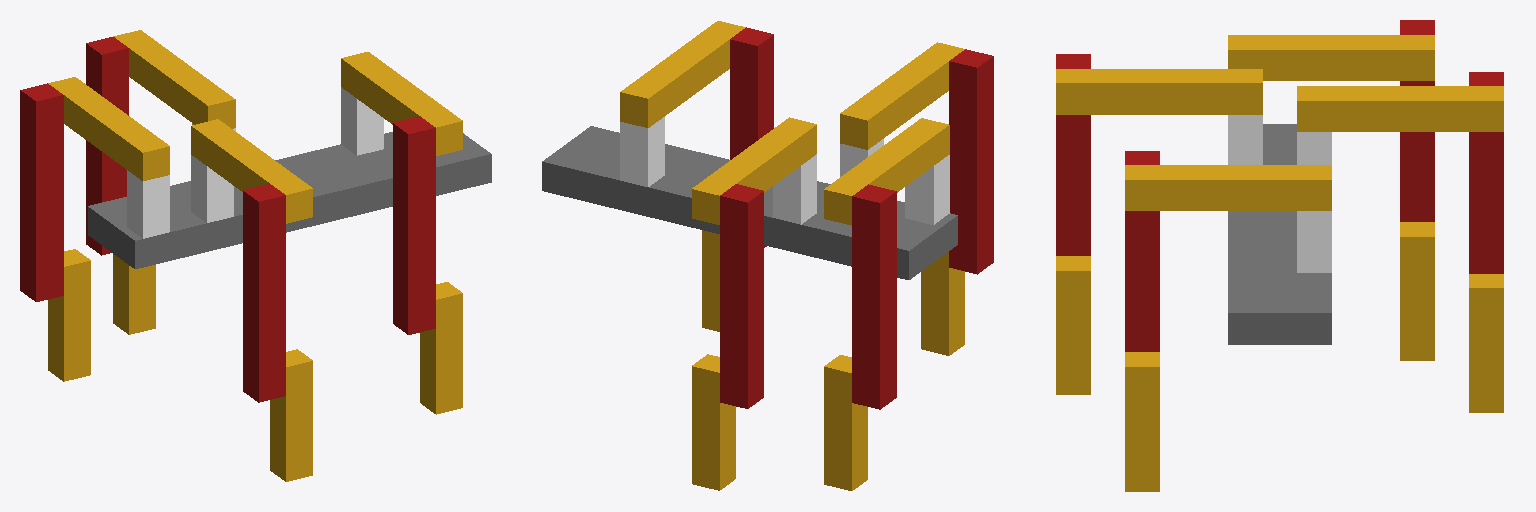
robot.urdf — v0:
<?xml version="1.0" encoding="utf-8"?>
<!-- =================================================================================== -->
<!-- |    This document was autogenerated by xacro from ../robots/v0variants/xacros/v0_4l_26.xacro | -->
<!-- |    EDITING THIS FILE BY HAND IS NOT RECOMMENDED                                 | -->
<!-- =================================================================================== -->
<robot name="v0">
  <material name="grey">
    <color rgba="0.5 0.5 0.5 1"/>
  </material>
  <material name="white">
    <color rgba="1 1 1 1"/>
  </material>
  <material name="yellow">
    <color rgba="0.91 0.7 0.14 1"/>
  </material>
  <material name="red">
    <color rgba="0.71 0.14 0.14 1"/>
  </material>
  <link name="body">
    <visual>
      <geometry>
        <box size="1.3 0.3 0.1"/>
      </geometry>
      <material name="grey"/>
      <origin rpy="0 0 0" xyz="0 0 0.7"/>
    </visual>
    <collision>
      <geometry>
        <box size="1.3 0.3 0.1"/>
      </geometry>
      <origin rpy="0 0 0" xyz="0 0 0.7"/>
    </collision>
    <inertial>
      <mass value="99.84"/>
      <inertia ixx="0.832" ixy="0.0" ixz="0.0" iyy="14.144" iyz="0.0" izz="14.8096"/>
    </inertial>
  </link>
  <link name="l1_segment_1">
    <visual>
      <geometry>
        <box size="0.1 0.1 0.2"/>
      </geometry>
      <material name="white"/>
      <origin rpy="0 0 0" xyz="0 0 0.1"/>
    </visual>
    <collision>
      <geometry>
        <box size="0.1 0.1 0.2"/>
      </geometry>
      <origin rpy="0 0 0" xyz="0 0 0.1"/>
    </collision>
    <inertial>
      <mass value="5.12"/>
      <inertia ixx="0.0213333333333" ixy="0.0" ixz="0.0" iyy="0.0213333333333" iyz="0.0" izz="0.00853333333333"/>
    </inertial>
  </link>
  <joint name="l1_base_to_joint_1" type="fixed">
    <parent link="body"/>
    <child link="l1_segment_1"/>
    <origin rpy="0 0 0" xyz="-0.5713213907273208 -0.1 0.75"/>
  </joint>
  <link name="l1_segment_2_HIP">
    <visual>
      <geometry>
        <box size="0.1 0.6 0.1"/>
      </geometry>
      <material name="yellow"/>
      <origin rpy="0 0 0" xyz="0 0.25 0"/>
    </visual>
    <collision>
      <geometry>
        <box size="0.1 0.6 0.1"/>
      </geometry>
      <origin rpy="0 0 0" xyz="0 0.25 0"/>
    </collision>
    <inertial>
      <mass value="15.36"/>
      <inertia ixx="0.4736" ixy="0.0" ixz="0.0" iyy="0.0256" iyz="0.0" izz="0.4736"/>
    </inertial>
  </link>
  <joint name="l1_joint_1_to_2" type="revolute">
    <parent link="l1_segment_1"/>
    <child link="l1_segment_2_HIP"/>
    <origin rpy="0 0 0" xyz="0 0 0.25"/>
    <axis xyz="0.0 0.0 1.0"/>
    <limit effort="2048" lower="-1.2" upper="1.2" velocity="20"/>
  </joint>
  <link name="l1_segment_3_THIGH">
    <visual>
      <geometry>
        <box size="0.1 0.1 0.7"/>
      </geometry>
      <material name="red"/>
      <origin rpy="0 0 0" xyz="0 0 -0.3"/>
    </visual>
    <collision>
      <geometry>
        <box size="0.1 0.1 0.7"/>
      </geometry>
      <origin rpy="0 0 0" xyz="0 0 -0.3"/>
    </collision>
    <inertial>
      <mass value="17.92"/>
      <inertia ixx="0.746666666667" ixy="0.0" ixz="0.0" iyy="0.746666666667" iyz="0.0" izz="0.0298666666667"/>
    </inertial>
  </link>
  <joint name="l1_joint_2_to_3" type="revolute">
    <parent link="l1_segment_2_HIP"/>
    <child link="l1_segment_3_THIGH"/>
    <origin rpy="0 0 0" xyz="-0.1 0.5 0"/>
    <axis xyz="1.0 0.0 0.0"/>
    <limit effort="2048" lower="-0.2" upper="0.75" velocity="20"/>
  </joint>
  <link name="l1_segment_4_FOOT">
    <visual>
      <geometry>
        <box size="0.1 0.1 0.4"/>
      </geometry>
      <material name="yellow"/>
      <origin rpy="0 0 0" xyz="0 0 -0.2"/>
    </visual>
    <collision>
      <geometry>
        <box size="0.1 0.1 0.4"/>
      </geometry>
      <origin rpy="0 0 0" xyz="0 0 -0.2"/>
    </collision>
    <inertial>
      <mass value="10.24"/>
      <inertia ixx="0.145066666667" ixy="0.0" ixz="0.0" iyy="0.145066666667" iyz="0.0" izz="0.0170666666667"/>
    </inertial>
  </link>
  <joint name="l1_joint_3_to_4_FOOT" type="revolute">
    <parent link="l1_segment_3_THIGH"/>
    <child link="l1_segment_4_FOOT"/>
    <origin rpy="0 0 0" xyz="0.1 0 -0.55"/>
    <axis xyz="1.0 0.0 0.0"/>
    <limit effort="2048" lower="-0.2" upper="0.5" velocity="20"/>
  </joint>
  <link name="r2_segment_1">
    <visual>
      <geometry>
        <box size="0.1 0.1 0.2"/>
      </geometry>
      <material name="white"/>
      <origin rpy="0 0 0" xyz="0 0 0.1"/>
    </visual>
    <collision>
      <geometry>
        <box size="0.1 0.1 0.2"/>
      </geometry>
      <origin rpy="0 0 0" xyz="0 0 0.1"/>
    </collision>
    <inertial>
      <mass value="5.12"/>
      <inertia ixx="0.0213333333333" ixy="0.0" ixz="0.0" iyy="0.0213333333333" iyz="0.0" izz="0.00853333333333"/>
    </inertial>
  </link>
  <joint name="r2_base_to_joint_1" type="fixed">
    <parent link="body"/>
    <child link="r2_segment_1"/>
    <origin rpy="0 0 0" xyz="-0.3382675655946672 -0.1 0.75"/>
  </joint>
  <link name="r2_segment_2_HIP">
    <visual>
      <geometry>
        <box size="0.1 0.6 0.1"/>
      </geometry>
      <material name="yellow"/>
      <origin rpy="0 0 0" xyz="0 -0.25 0"/>
    </visual>
    <collision>
      <geometry>
        <box size="0.1 0.6 0.1"/>
      </geometry>
      <origin rpy="0 0 0" xyz="0 -0.25 0"/>
    </collision>
    <inertial>
      <mass value="15.36"/>
      <inertia ixx="0.4736" ixy="0.0" ixz="0.0" iyy="0.0256" iyz="0.0" izz="0.4736"/>
    </inertial>
  </link>
  <joint name="r2_joint_1_to_2" type="revolute">
    <parent link="r2_segment_1"/>
    <child link="r2_segment_2_HIP"/>
    <origin rpy="0 0 0" xyz="0 0 0.25"/>
    <axis xyz="0.0 0.0 1.0"/>
    <limit effort="2048" lower="-1.2" upper="1.2" velocity="20"/>
  </joint>
  <link name="r2_segment_3_THIGH">
    <visual>
      <geometry>
        <box size="0.1 0.1 0.7"/>
      </geometry>
      <material name="red"/>
      <origin rpy="0 0 0" xyz="0 0 -0.3"/>
    </visual>
    <collision>
      <geometry>
        <box size="0.1 0.1 0.7"/>
      </geometry>
      <origin rpy="0 0 0" xyz="0 0 -0.3"/>
    </collision>
    <inertial>
      <mass value="17.92"/>
      <inertia ixx="0.746666666667" ixy="0.0" ixz="0.0" iyy="0.746666666667" iyz="0.0" izz="0.0298666666667"/>
    </inertial>
  </link>
  <joint name="r2_joint_2_to_3" type="revolute">
    <parent link="r2_segment_2_HIP"/>
    <child link="r2_segment_3_THIGH"/>
    <origin rpy="0 0 0" xyz="-0.1 -0.5 0"/>
    <axis xyz="1.0 0.0 0.0"/>
    <limit effort="2048" lower="-0.75" upper="0.2" velocity="20"/>
  </joint>
  <link name="r2_segment_4_FOOT">
    <visual>
      <geometry>
        <box size="0.1 0.1 0.4"/>
      </geometry>
      <material name="yellow"/>
      <origin rpy="0 0 0" xyz="0 0 -0.2"/>
    </visual>
    <collision>
      <geometry>
        <box size="0.1 0.1 0.4"/>
      </geometry>
      <origin rpy="0 0 0" xyz="0 0 -0.2"/>
    </collision>
    <inertial>
      <mass value="10.24"/>
      <inertia ixx="0.145066666667" ixy="0.0" ixz="0.0" iyy="0.145066666667" iyz="0.0" izz="0.0170666666667"/>
    </inertial>
  </link>
  <joint name="r2_joint_3_to_4_FOOT" type="revolute">
    <parent link="r2_segment_3_THIGH"/>
    <child link="r2_segment_4_FOOT"/>
    <origin rpy="0 0 0" xyz="0.1 0 -0.55"/>
    <axis xyz="1.0 0.0 0.0"/>
    <limit effort="2048" lower="-0.5" upper="0.2" velocity="20"/>
  </joint>
  <link name="l3_segment_1">
    <visual>
      <geometry>
        <box size="0.1 0.1 0.2"/>
      </geometry>
      <material name="white"/>
      <origin rpy="0 0 0" xyz="0 0 0.1"/>
    </visual>
    <collision>
      <geometry>
        <box size="0.1 0.1 0.2"/>
      </geometry>
      <origin rpy="0 0 0" xyz="0 0 0.1"/>
    </collision>
    <inertial>
      <mass value="5.12"/>
      <inertia ixx="0.0213333333333" ixy="0.0" ixz="0.0" iyy="0.0213333333333" iyz="0.0" izz="0.00853333333333"/>
    </inertial>
  </link>
  <joint name="l3_base_to_joint_1" type="fixed">
    <parent link="body"/>
    <child link="l3_segment_1"/>
    <origin rpy="0 0 0" xyz="-0.21769654855854764 0.1 0.75"/>
  </joint>
  <link name="l3_segment_2_HIP">
    <visual>
      <geometry>
        <box size="0.1 0.6 0.1"/>
      </geometry>
      <material name="yellow"/>
      <origin rpy="0 0 0" xyz="0 0.25 0"/>
    </visual>
    <collision>
      <geometry>
        <box size="0.1 0.6 0.1"/>
      </geometry>
      <origin rpy="0 0 0" xyz="0 0.25 0"/>
    </collision>
    <inertial>
      <mass value="15.36"/>
      <inertia ixx="0.4736" ixy="0.0" ixz="0.0" iyy="0.0256" iyz="0.0" izz="0.4736"/>
    </inertial>
  </link>
  <joint name="l3_joint_1_to_2" type="revolute">
    <parent link="l3_segment_1"/>
    <child link="l3_segment_2_HIP"/>
    <origin rpy="0 0 0" xyz="0 0 0.25"/>
    <axis xyz="0.0 0.0 1.0"/>
    <limit effort="2048" lower="-1.2" upper="1.2" velocity="20"/>
  </joint>
  <link name="l3_segment_3_THIGH">
    <visual>
      <geometry>
        <box size="0.1 0.1 0.7"/>
      </geometry>
      <material name="red"/>
      <origin rpy="0 0 0" xyz="0 0 -0.3"/>
    </visual>
    <collision>
      <geometry>
        <box size="0.1 0.1 0.7"/>
      </geometry>
      <origin rpy="0 0 0" xyz="0 0 -0.3"/>
    </collision>
    <inertial>
      <mass value="17.92"/>
      <inertia ixx="0.746666666667" ixy="0.0" ixz="0.0" iyy="0.746666666667" iyz="0.0" izz="0.0298666666667"/>
    </inertial>
  </link>
  <joint name="l3_joint_2_to_3" type="revolute">
    <parent link="l3_segment_2_HIP"/>
    <child link="l3_segment_3_THIGH"/>
    <origin rpy="0 0 0" xyz="-0.1 0.5 0"/>
    <axis xyz="1.0 0.0 0.0"/>
    <limit effort="2048" lower="-0.2" upper="0.75" velocity="20"/>
  </joint>
  <link name="l3_segment_4_FOOT">
    <visual>
      <geometry>
        <box size="0.1 0.1 0.4"/>
      </geometry>
      <material name="yellow"/>
      <origin rpy="0 0 0" xyz="0 0 -0.2"/>
    </visual>
    <collision>
      <geometry>
        <box size="0.1 0.1 0.4"/>
      </geometry>
      <origin rpy="0 0 0" xyz="0 0 -0.2"/>
    </collision>
    <inertial>
      <mass value="10.24"/>
      <inertia ixx="0.145066666667" ixy="0.0" ixz="0.0" iyy="0.145066666667" iyz="0.0" izz="0.0170666666667"/>
    </inertial>
  </link>
  <joint name="l3_joint_3_to_4_FOOT" type="revolute">
    <parent link="l3_segment_3_THIGH"/>
    <child link="l3_segment_4_FOOT"/>
    <origin rpy="0 0 0" xyz="0.1 0 -0.55"/>
    <axis xyz="1.0 0.0 0.0"/>
    <limit effort="2048" lower="-0.2" upper="0.5" velocity="20"/>
  </joint>
  <link name="r4_segment_1">
    <visual>
      <geometry>
        <box size="0.1 0.1 0.2"/>
      </geometry>
      <material name="white"/>
      <origin rpy="0 0 0" xyz="0 0 0.1"/>
    </visual>
    <collision>
      <geometry>
        <box size="0.1 0.1 0.2"/>
      </geometry>
      <origin rpy="0 0 0" xyz="0 0 0.1"/>
    </collision>
    <inertial>
      <mass value="5.12"/>
      <inertia ixx="0.0213333333333" ixy="0.0" ixz="0.0" iyy="0.0213333333333" iyz="0.0" izz="0.00853333333333"/>
    </inertial>
  </link>
  <joint name="r4_base_to_joint_1" type="fixed">
    <parent link="body"/>
    <child link="r4_segment_1"/>
    <origin rpy="0 0 0" xyz="0.32391928811397996 0.1 0.75"/>
  </joint>
  <link name="r4_segment_2_HIP">
    <visual>
      <geometry>
        <box size="0.1 0.6 0.1"/>
      </geometry>
      <material name="yellow"/>
      <origin rpy="0 0 0" xyz="0 -0.25 0"/>
    </visual>
    <collision>
      <geometry>
        <box size="0.1 0.6 0.1"/>
      </geometry>
      <origin rpy="0 0 0" xyz="0 -0.25 0"/>
    </collision>
    <inertial>
      <mass value="15.36"/>
      <inertia ixx="0.4736" ixy="0.0" ixz="0.0" iyy="0.0256" iyz="0.0" izz="0.4736"/>
    </inertial>
  </link>
  <joint name="r4_joint_1_to_2" type="revolute">
    <parent link="r4_segment_1"/>
    <child link="r4_segment_2_HIP"/>
    <origin rpy="0 0 0" xyz="0 0 0.25"/>
    <axis xyz="0.0 0.0 1.0"/>
    <limit effort="2048" lower="-1.2" upper="1.2" velocity="20"/>
  </joint>
  <link name="r4_segment_3_THIGH">
    <visual>
      <geometry>
        <box size="0.1 0.1 0.7"/>
      </geometry>
      <material name="red"/>
      <origin rpy="0 0 0" xyz="0 0 -0.3"/>
    </visual>
    <collision>
      <geometry>
        <box size="0.1 0.1 0.7"/>
      </geometry>
      <origin rpy="0 0 0" xyz="0 0 -0.3"/>
    </collision>
    <inertial>
      <mass value="17.92"/>
      <inertia ixx="0.746666666667" ixy="0.0" ixz="0.0" iyy="0.746666666667" iyz="0.0" izz="0.0298666666667"/>
    </inertial>
  </link>
  <joint name="r4_joint_2_to_3" type="revolute">
    <parent link="r4_segment_2_HIP"/>
    <child link="r4_segment_3_THIGH"/>
    <origin rpy="0 0 0" xyz="-0.1 -0.5 0"/>
    <axis xyz="1.0 0.0 0.0"/>
    <limit effort="2048" lower="-0.75" upper="0.2" velocity="20"/>
  </joint>
  <link name="r4_segment_4_FOOT">
    <visual>
      <geometry>
        <box size="0.1 0.1 0.4"/>
      </geometry>
      <material name="yellow"/>
      <origin rpy="0 0 0" xyz="0 0 -0.2"/>
    </visual>
    <collision>
      <geometry>
        <box size="0.1 0.1 0.4"/>
      </geometry>
      <origin rpy="0 0 0" xyz="0 0 -0.2"/>
    </collision>
    <inertial>
      <mass value="10.24"/>
      <inertia ixx="0.145066666667" ixy="0.0" ixz="0.0" iyy="0.145066666667" iyz="0.0" izz="0.0170666666667"/>
    </inertial>
  </link>
  <joint name="r4_joint_3_to_4_FOOT" type="revolute">
    <parent link="r4_segment_3_THIGH"/>
    <child link="r4_segment_4_FOOT"/>
    <origin rpy="0 0 0" xyz="0.1 0 -0.55"/>
    <axis xyz="1.0 0.0 0.0"/>
    <limit effort="2048" lower="-0.5" upper="0.2" velocity="20"/>
  </joint>
</robot>

--- Facts derived from the render (not from the file) ---
Views: 3 orthographic renders of the robot side by side, from view 1: azimuth 30°, elevation 25°; view 2: azimuth 150°, elevation 25°; view 3: azimuth 270°, elevation 25°.
Model v0 with 17 links and 16 joints (12 revolute, 4 fixed), rooted at body, posed all joints at 0.
Visible links, largest first — view 1: body, l1_segment_3_THIGH, r2_segment_3_THIGH, r4_segment_3_THIGH, l1_segment_2_HIP, l3_segment_2_HIP, r2_segment_2_HIP, r4_segment_2_HIP, l3_segment_3_THIGH, l1_segment_4_FOOT, r2_segment_4_FOOT, r4_segment_4_FOOT (+4 smaller); view 2: body, l1_segment_3_THIGH, l3_segment_3_THIGH, r2_segment_3_THIGH, r4_segment_2_HIP, r2_segment_2_HIP, l1_segment_2_HIP, l3_segment_2_HIP, r4_segment_3_THIGH, l1_segment_4_FOOT, l3_segment_4_FOOT, r2_segment_4_FOOT (+5 smaller); view 3: body, r2_segment_2_HIP, l3_segment_2_HIP, r4_segment_2_HIP, l1_segment_2_HIP, r2_segment_3_THIGH, l3_segment_3_THIGH, r4_segment_3_THIGH, r4_segment_4_FOOT, l1_segment_4_FOOT, r2_segment_4_FOOT, l3_segment_4_FOOT (+4 smaller).
Boxes of the visible links, x1,y1,x2,y2 form: body: (88, 132, 491, 268); l1_segment_3_THIGH: (20, 83, 63, 301); r2_segment_3_THIGH: (243, 184, 285, 402); r4_segment_3_THIGH: (393, 116, 435, 334); l1_segment_2_HIP: (48, 77, 169, 180); l3_segment_2_HIP: (113, 30, 235, 128); r2_segment_2_HIP: (191, 119, 312, 223); r4_segment_2_HIP: (341, 52, 462, 155); l3_segment_3_THIGH: (86, 37, 128, 255); l1_segment_4_FOOT: (48, 249, 90, 381); r2_segment_4_FOOT: (270, 349, 312, 481); r4_segment_4_FOOT: (420, 282, 462, 414); body: (542, 126, 957, 279); l1_segment_3_THIGH: (852, 184, 896, 409); l3_segment_3_THIGH: (720, 184, 763, 408); r2_segment_3_THIGH: (949, 49, 993, 274); r4_segment_2_HIP: (620, 21, 745, 127); r2_segment_2_HIP: (840, 42, 964, 149); l1_segment_2_HIP: (824, 118, 949, 225); l3_segment_2_HIP: (692, 117, 816, 224); r4_segment_3_THIGH: (730, 27, 773, 247); l1_segment_4_FOOT: (824, 355, 867, 490); l3_segment_4_FOOT: (692, 354, 735, 490); r2_segment_4_FOOT: (921, 252, 964, 355); body: (1228, 124, 1331, 344); r2_segment_2_HIP: (1056, 69, 1262, 114); l3_segment_2_HIP: (1297, 86, 1503, 131); r4_segment_2_HIP: (1125, 165, 1331, 210); l1_segment_2_HIP: (1228, 35, 1434, 80); r2_segment_3_THIGH: (1056, 54, 1090, 255); l3_segment_3_THIGH: (1469, 72, 1503, 273); r4_segment_3_THIGH: (1125, 151, 1159, 351); r4_segment_4_FOOT: (1125, 352, 1159, 491); l1_segment_4_FOOT: (1400, 222, 1434, 360); r2_segment_4_FOOT: (1056, 256, 1090, 394); l3_segment_4_FOOT: (1469, 274, 1503, 412).
Size in the robot's own frame: 1.37 by 1.3 by 1 metres.
Geometry: primitives only (box / cylinder / sphere), no mesh files.